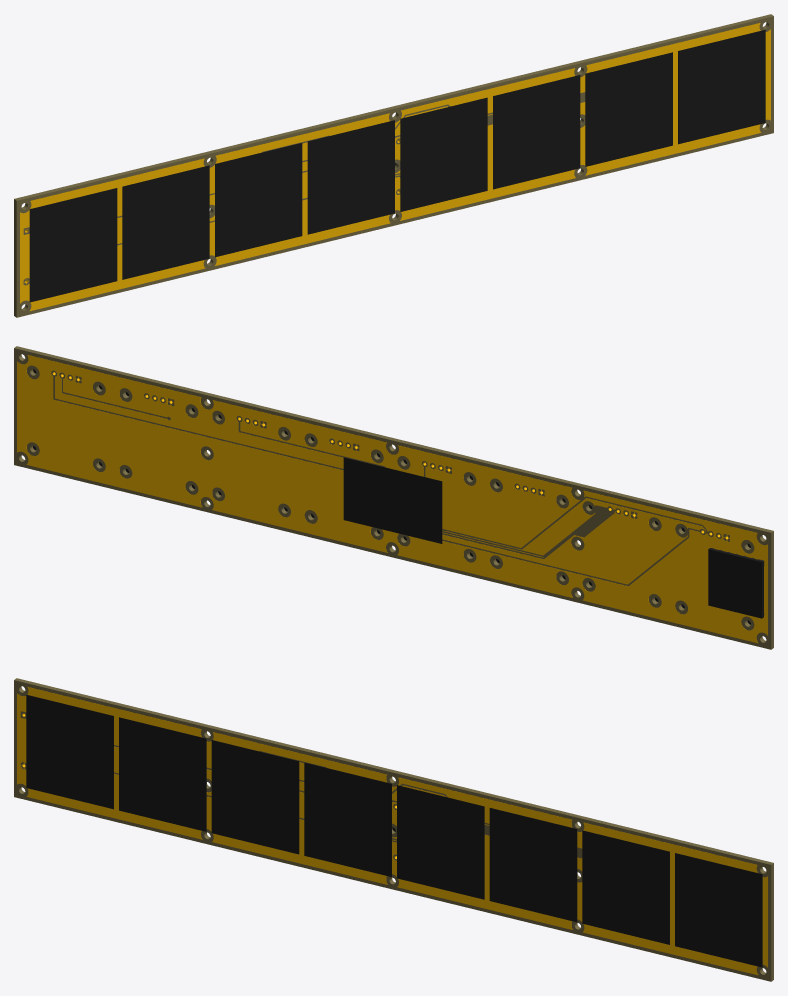
The model's file is TrackDisplay_v2.fbx.
3 views of the same model, one above another, from view 1: azimuth 30°, elevation 25°; view 2: azimuth 150°, elevation 25°; view 3: azimuth 330°, elevation 25° (orthographic).
Visible parts, largest first — view 1: Body1 (×8), Body2, Board; view 2: Body2, Board, Body1 (×2); view 3: Body1 (×8), Body2, Board.
Part boxes in pixels (x1,y1,x2,y2): Body1 (×8): (29, 29, 765, 302); Body2: (20, 23, 770, 311); Board: (14, 14, 773, 317); Body2: (17, 355, 767, 643); Board: (14, 346, 773, 649); Body1 (×2): (343, 457, 763, 618); Body1 (×8): (26, 694, 762, 967); Body2: (17, 687, 767, 975); Board: (14, 678, 773, 981).
Bounding box in the file's own units: 239 × 35.23 × 2.76.
